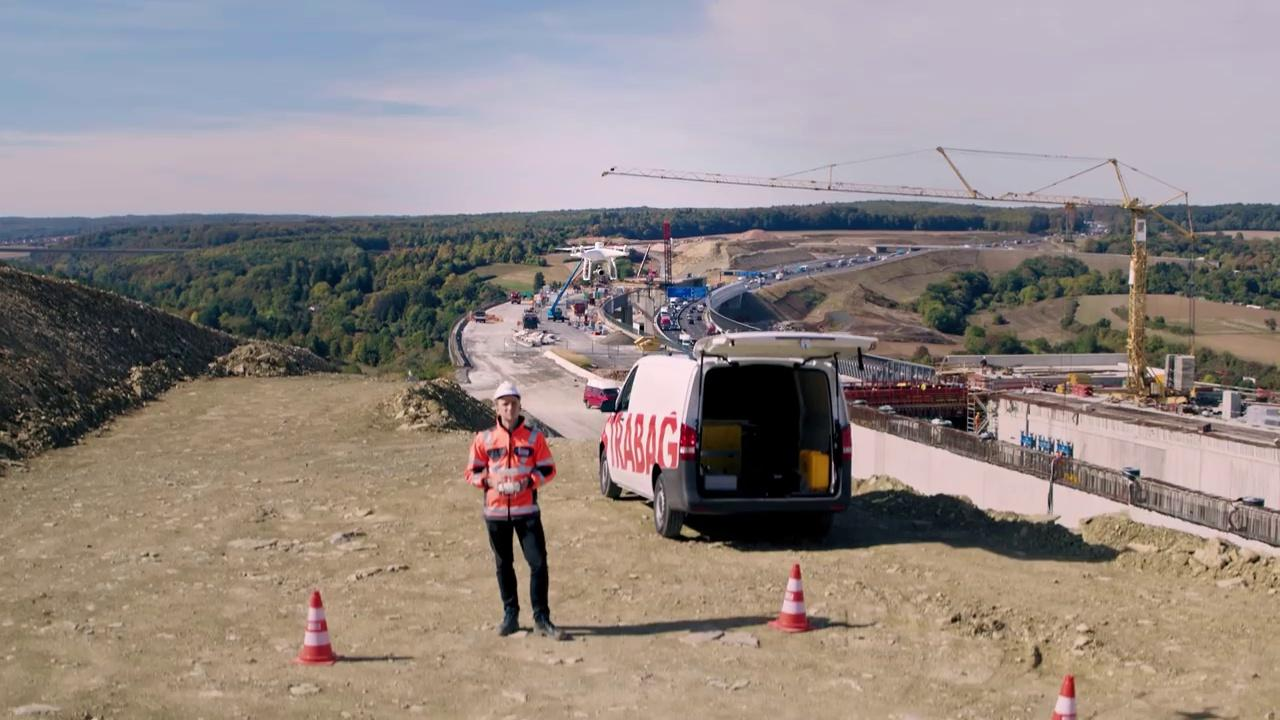drone: (562, 239, 631, 280)
